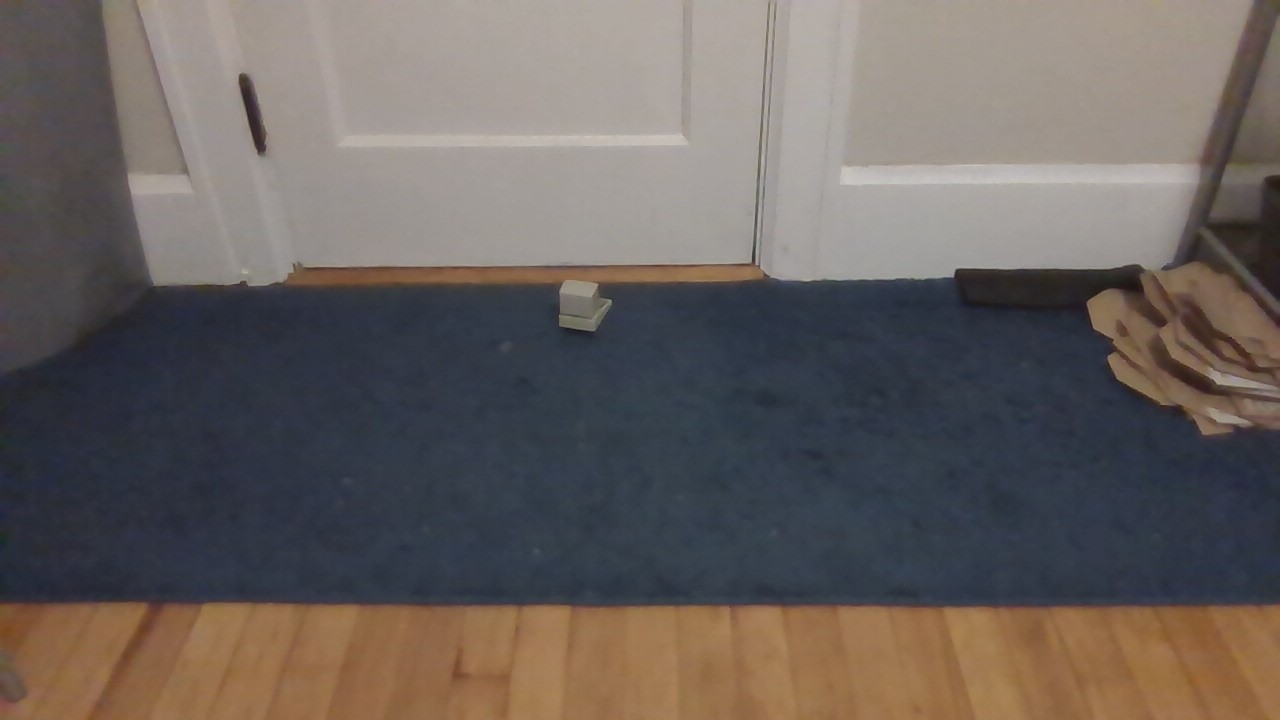Toy: (541, 258, 627, 342)
